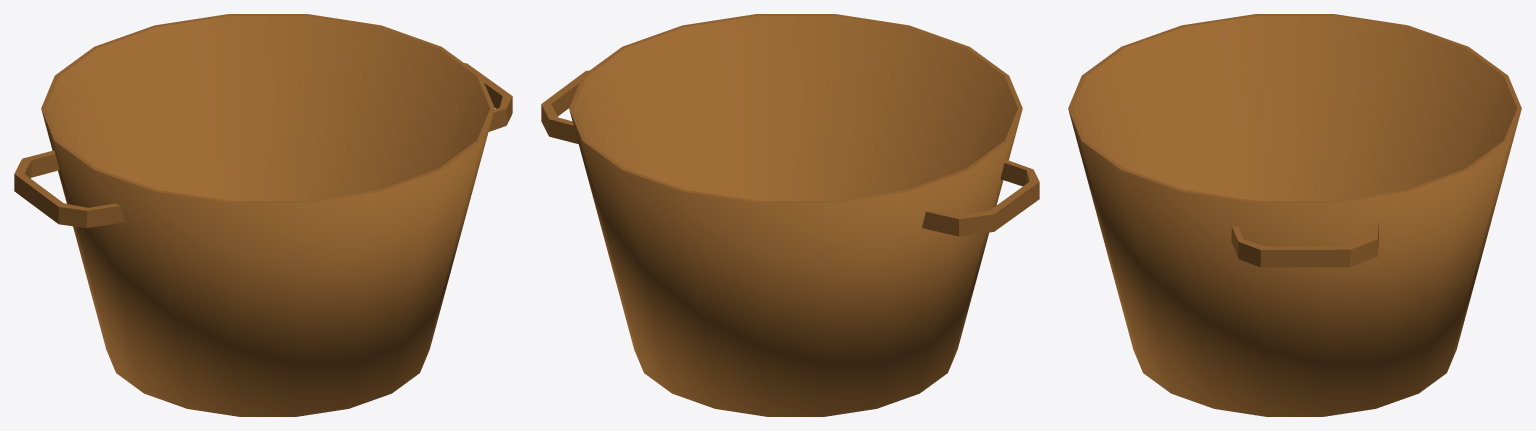
File: prop_basket.glb
3 renders of one model, left to right at view 1: azimuth 30°, elevation 25°; view 2: azimuth 150°, elevation 25°; view 3: azimuth 270°, elevation 25°, orthographic.
Parts seen in each view (by area): view 1: Props with out snow_Basket_0; view 2: Props with out snow_Basket_0; view 3: Props with out snow_Basket_0.
Boxes of the visible parts, x1,y1,x2,y2 form: Props with out snow_Basket_0: (14,14,512,416); Props with out snow_Basket_0: (541,14,1039,416); Props with out snow_Basket_0: (1068,14,1521,416).
Size of the model in its own units: 1.62 by 0.8239 by 1.4.
